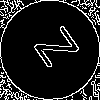Z: (25, 25, 80, 76)
